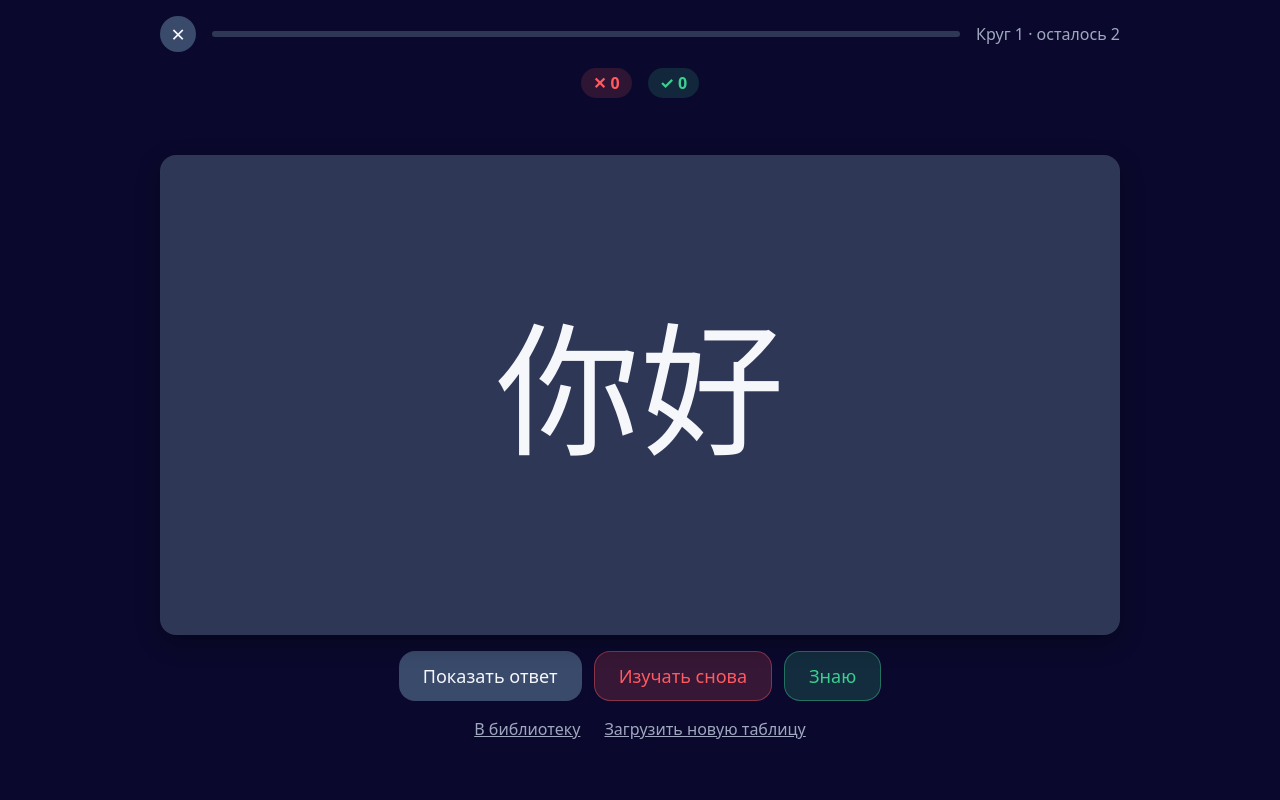
Test: TrainingScreen › «Изучать снова» увеличивает счётчик «не знаю»
Click the button "Изучать снова".
click(683, 676)  # box [594, 651, 772, 701]
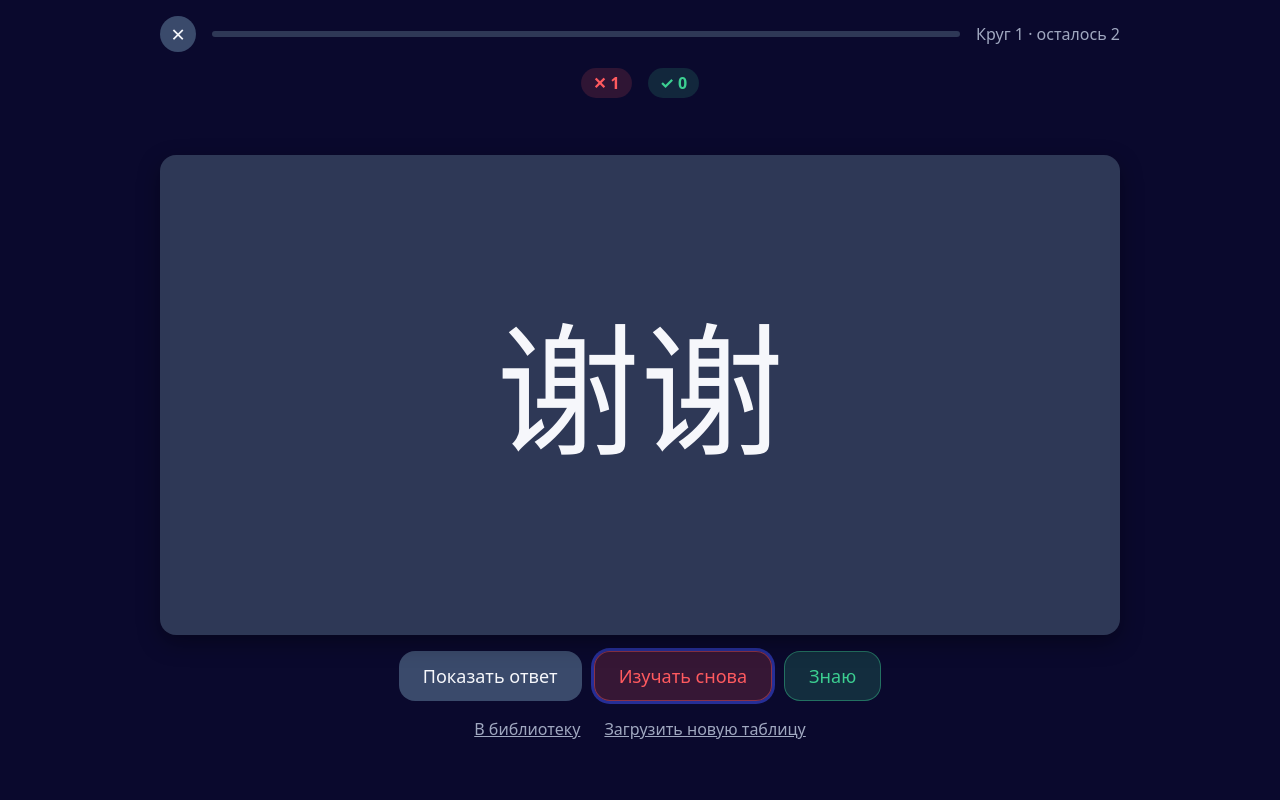
expect the text "谢谢" is shown: met, box [496, 316, 784, 474]
expect the element with test id "count-unknown" shows "1": met, box [610, 72, 620, 94]
